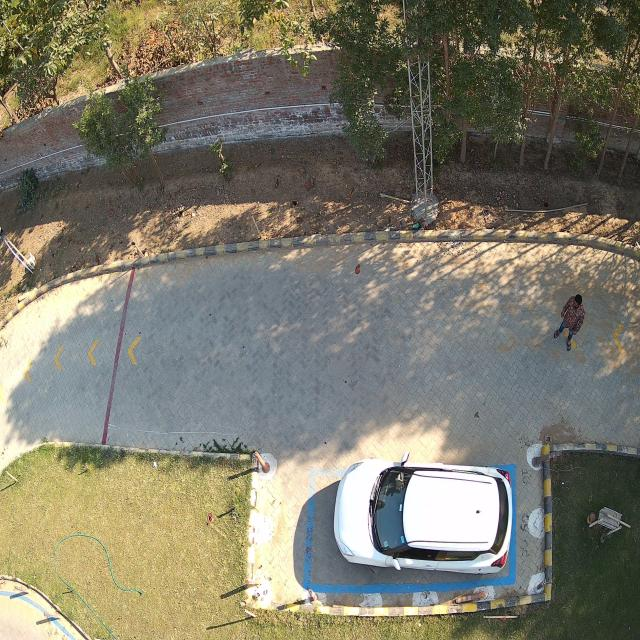car: (334, 455, 512, 573)
